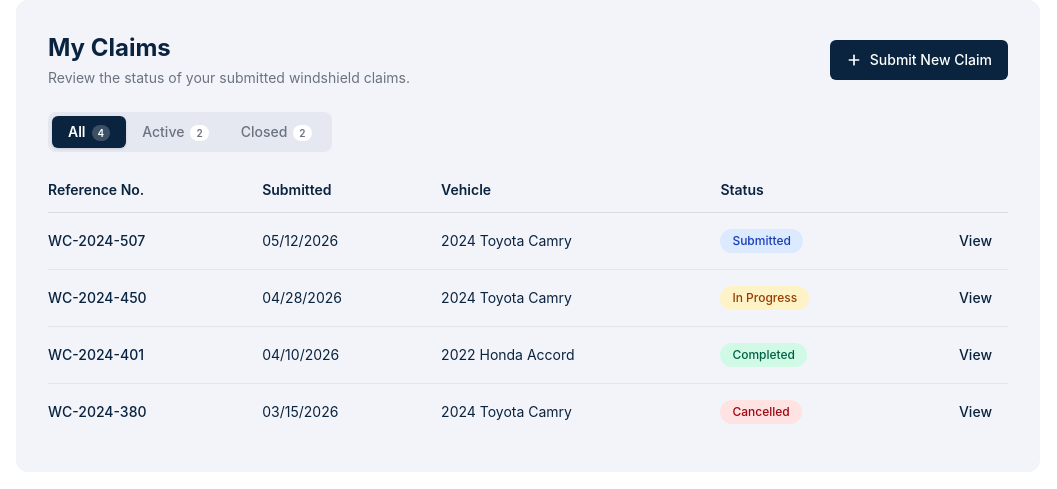
Test case: MyClaimsPage › filters to Closed when the Closed pill is clicked
Click the tab "Closed2".
click(276, 132)  # box left=225, top=116, right=328, bottom=148
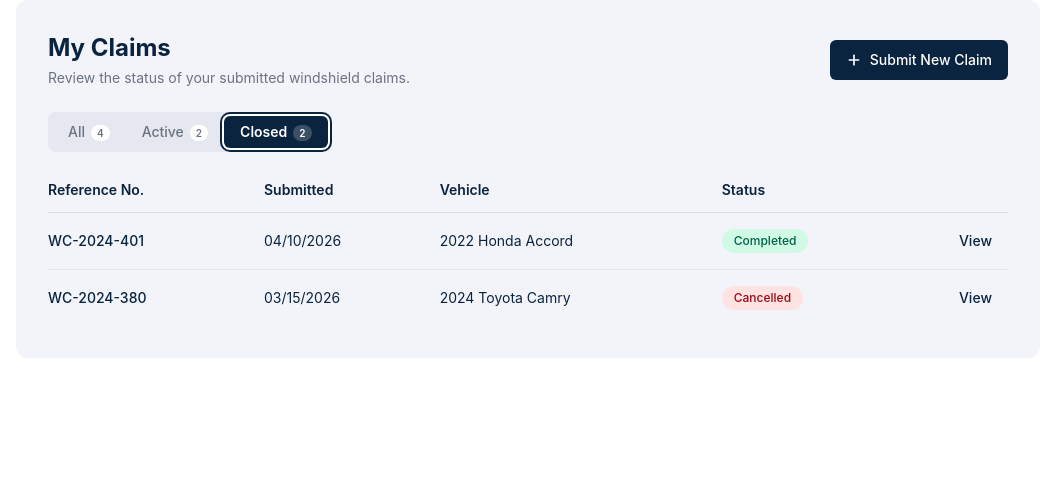
Check: the link "WC-2024-401" is shown, box left=48, top=232, right=144, bottom=249
Check: the link "WC-2024-507" is gone
